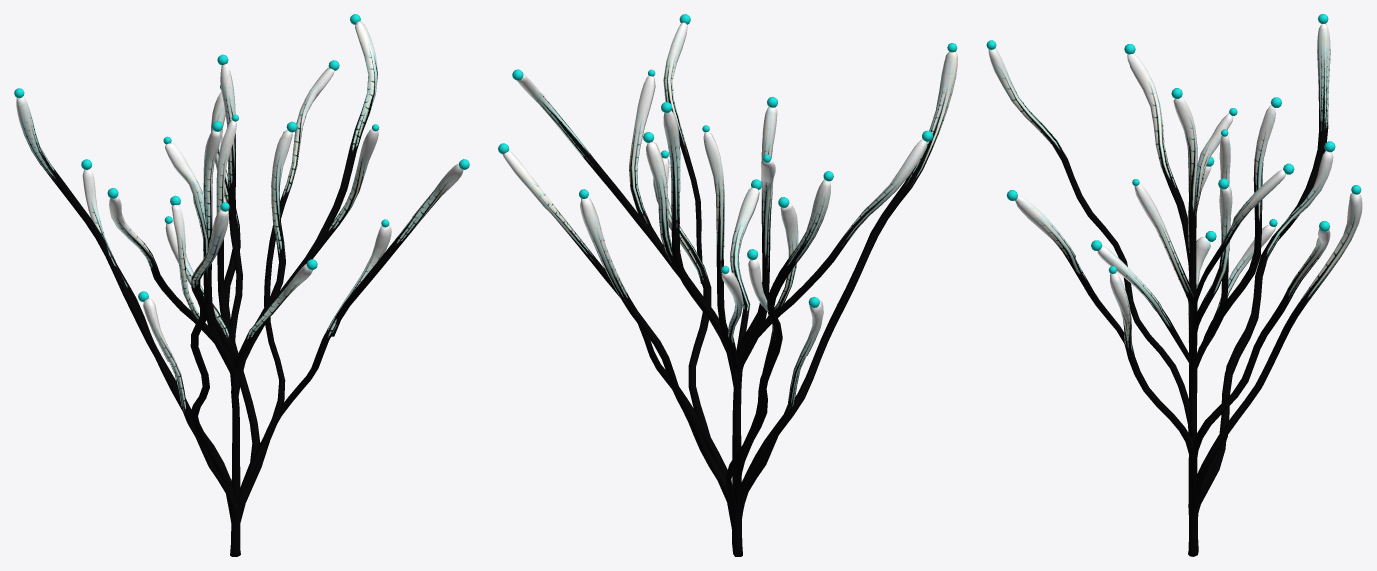
File: fractalNEWV6.glb
The picture shows the model from 3 angles, left to right: view 1: azimuth 30°, elevation 25°; view 2: azimuth 150°, elevation 25°; view 3: azimuth 270°, elevation 25°; orthographic projection. The views are drawn at different scales.
Parts seen in each view (by area): view 1: NeuralFractal, Spheres; view 2: NeuralFractal, Spheres; view 3: NeuralFractal, Spheres.
Boxes of the visible parts, bbox=[...] form: NeuralFractal: bbox=[16, 21, 463, 556]; Spheres: bbox=[14, 14, 469, 301]; NeuralFractal: bbox=[503, 22, 957, 556]; Spheres: bbox=[498, 14, 957, 307]; NeuralFractal: bbox=[988, 23, 1362, 556]; Spheres: bbox=[986, 14, 1361, 273].
Size of the model in its own units: 0.7466 by 1 by 0.722.
Materials: 2 (1 with a texture image).
